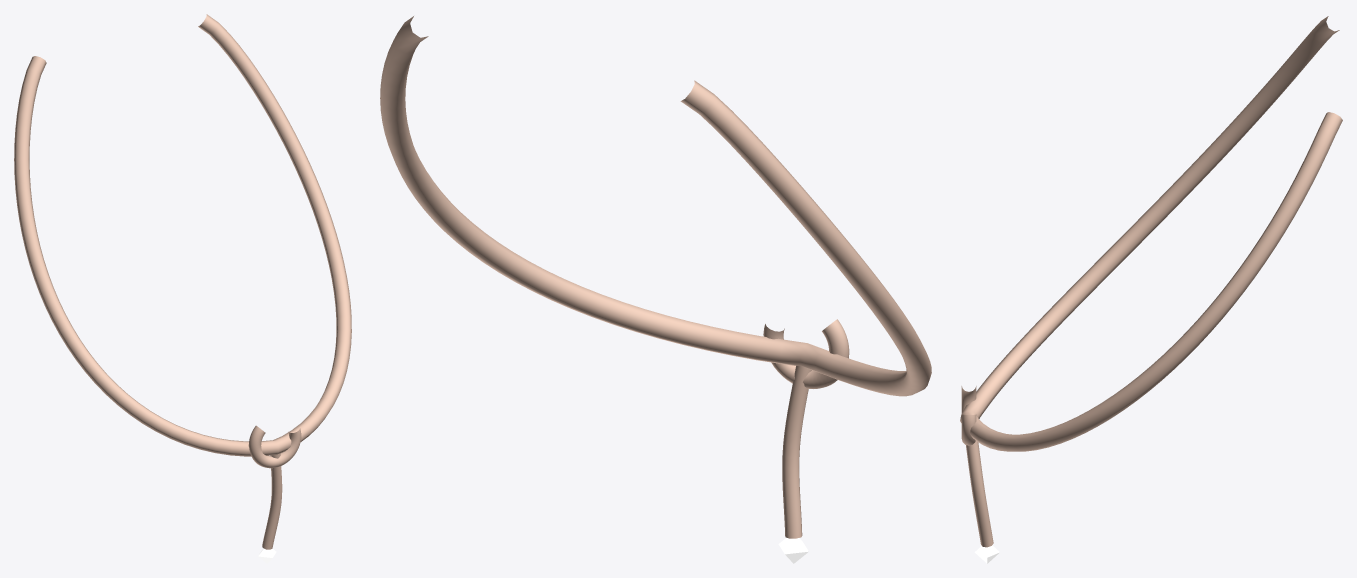
3 views of the same model, side by side, from view 1: azimuth 30°, elevation 25°; view 2: azimuth 150°, elevation 25°; view 3: azimuth 270°, elevation 25° (orthographic). The views are drawn at different scales.
Parts seen in each view (by area): view 1: part (×3); view 2: part (×3); view 3: part (×3).
Part boxes in pixels (x1=…): part (×3): x1=14, y1=14, x2=351, y2=549; part (×3): x1=380, y1=16, x2=931, y2=538; part (×3): x1=960, y1=16, x2=1342, y2=547.
Size of the model in its own units: 0.4345 by 0.6014 by 0.4172.
